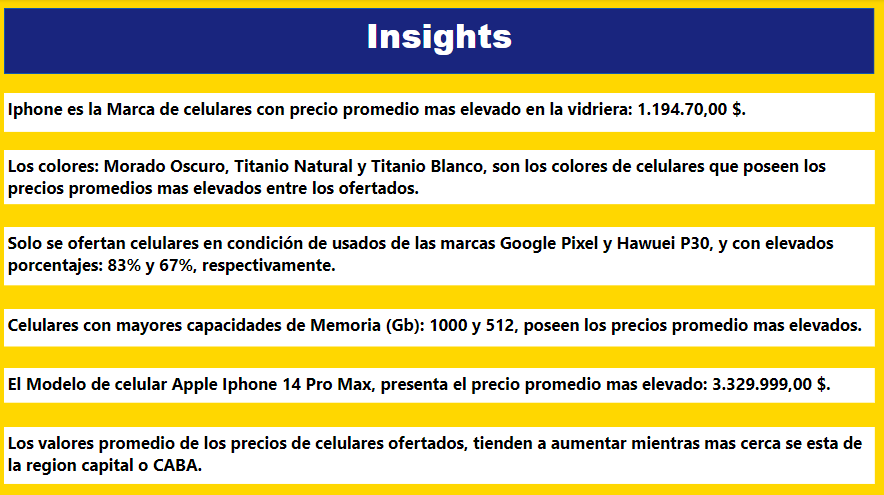

What the dashboard file says about the page in this screenshot:
{"tool":"powerbi","page":{"name":"Insights","canvas":[1280,720],"ordinal":2},"visuals":[{"type":"shape","box":[10,13.3,1253.3,95],"z":0},{"type":"textbox","box":[10,13.3,1253.3,95],"z":1000},{"type":"textbox","box":[10,136,1254,56],"z":2000},{"type":"textbox","box":[10,218,1254,78],"z":3000},{"type":"textbox","box":[10,328,1254,84],"z":4000},{"type":"textbox","box":[10,446,1254,54],"z":5000},{"type":"textbox","box":[10,532,1254,50],"z":6000},{"type":"textbox","box":[10,616,1254,82],"z":7000}]}

Visuals, with their boxes in screenshot pixels (x1, y1, x2, y2), scaled from the page's 1280x720 canvas onto the 884x495 screenshot:
shape: pyautogui.locateOnScreen(7, 9, 872, 74)
textbox: pyautogui.locateOnScreen(7, 9, 872, 74)
textbox: pyautogui.locateOnScreen(7, 94, 873, 132)
textbox: pyautogui.locateOnScreen(7, 150, 873, 204)
textbox: pyautogui.locateOnScreen(7, 226, 873, 283)
textbox: pyautogui.locateOnScreen(7, 307, 873, 344)
textbox: pyautogui.locateOnScreen(7, 366, 873, 400)
textbox: pyautogui.locateOnScreen(7, 424, 873, 480)
